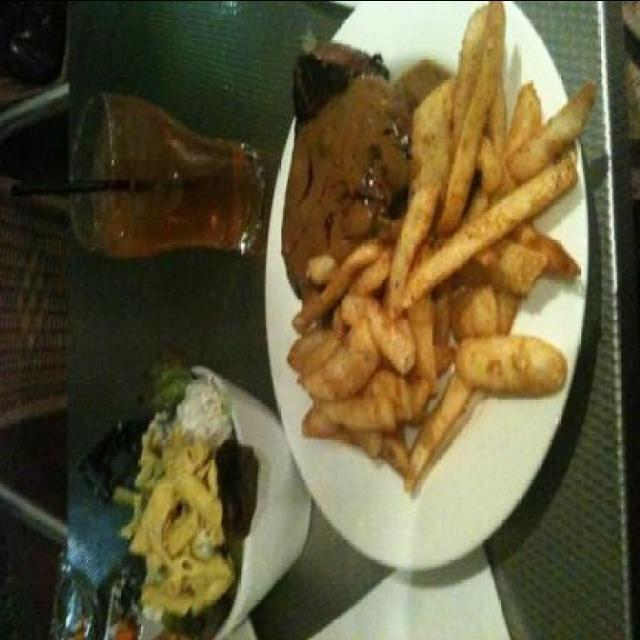French fries: (308, 46, 586, 502)
Steak: (258, 40, 404, 314)
